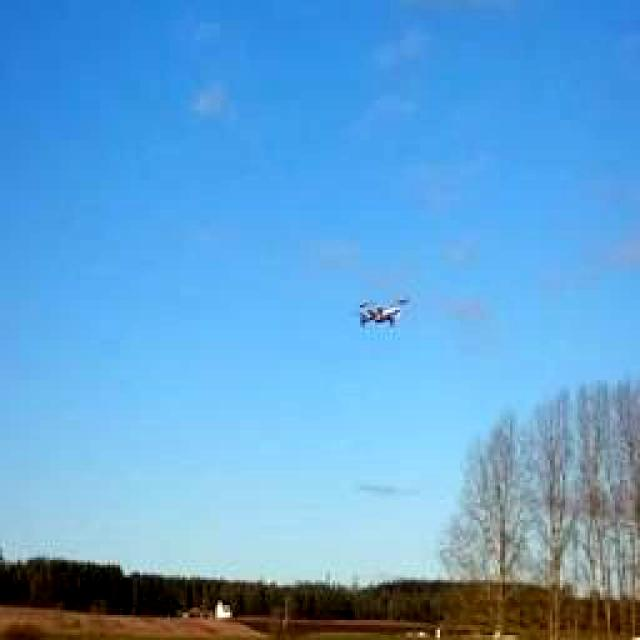bird: (356, 282, 411, 332)
